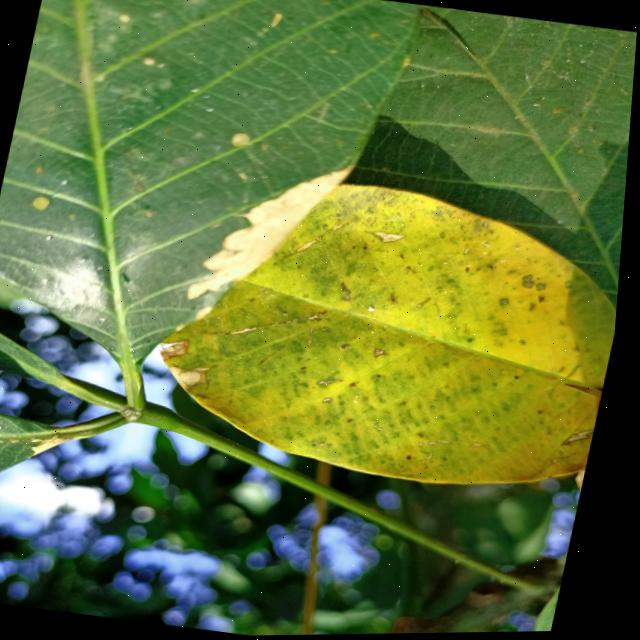Leaf-Blight: (186, 155, 352, 318), (160, 337, 197, 365), (172, 367, 207, 393), (374, 232, 408, 247), (578, 470, 593, 503)
